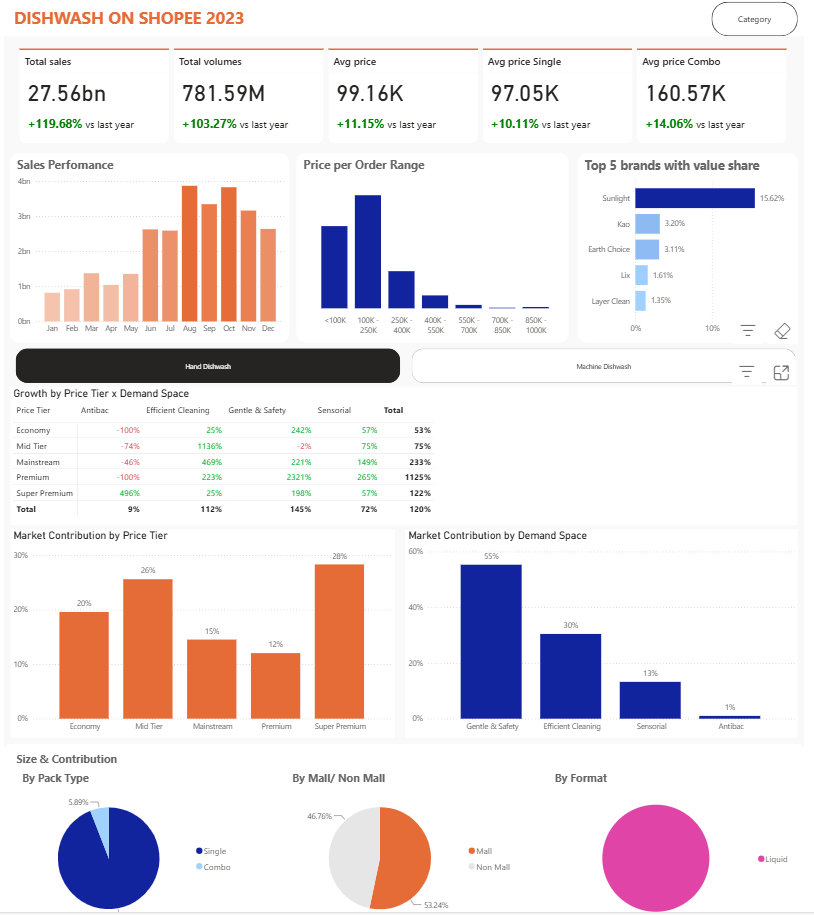

What the dashboard file says about the page in this screenshot:
{"tool":"powerbi","page":{"name":"Market Overview","canvas":[1280,1500],"ordinal":0},"visuals":[{"type":"shape","box":[0,1195,1280,305],"z":0},{"type":"shape","box":[0,0,1280,61.4],"z":1000},{"type":"pieChart","title":"By Mall/ Non Mall","fields":{"Y":["Sum(full data.NMV)"],"Category":["full data.MALL/ NON MALL"]},"box":[456.7,1236.7,368.3,263.3],"z":2000},{"type":"pieChart","title":"By Format","fields":{"Y":["Sum(full data.NMV)"],"Category":["full data.FORMAT"]},"box":[876.7,1236.7,393.3,263.3],"z":3000},{"type":"clusteredColumnChart","title":"Market Contribution by Demand Space","fields":{"Category":["full data.DW Demand Space"],"Y":["_Measure.Total sales"]},"box":[641.7,850,628.3,333.3],"z":4000},{"type":"clusteredBarChart","title":"Top 5 brands with value share","fields":{"Category":["full data.BRAND"],"Y":["_Measure.Brand val share"]},"box":[918.3,248.3,351.7,303.3],"z":5000},{"type":"clusteredColumnChart","title":"Sales Perfomance","fields":{"Category":["Calendar.Month name"],"Y":["_Measure.Value sale"]},"box":[10,248.3,446.7,303.3],"z":6000},{"type":"pieChart","title":"By Pack Type","fields":{"Y":["Sum(full data.NMV)"],"Category":["full data.PACK TYPE"]},"box":[23.3,1236.7,353.3,263.3],"z":7000},{"type":"advancedSlicerVisual","fields":{"Values":["full data.SUB-CAT"]},"box":[13.3,555,1258.3,65],"z":8000},{"type":"clusteredColumnChart","title":"Price per Order Range","fields":{"Category":["Dim_PPL_Range.PPL Range"],"Y":["_Measure.Price per order"]},"box":[468.3,248.3,435,303.3],"z":9000},{"type":"clusteredColumnChart","title":"Market Contribution by Price Tier","fields":{"Category":["Dim_PriceTier.Price Tier"],"Y":["_Measure.Value sale"]},"box":[10,850,615,333.3],"z":10000},{"type":"cardVisual","fields":{"Rows":["Test.Title"],"Data":["_Measure.Table value"]},"box":[0,75,1280,161.7],"z":11000},{"type":"pageNavigator","box":[1131.7,6.7,138.3,55],"z":12000},{"type":"pivotTable","title":"Growth by Price Tier x Demand Space","fields":{"Rows":["Dim_PriceTier.Price Tier"],"Values":["_Measure.Value growth %"],"Columns":["full data.DW Demand Space"]},"box":[10,621.7,1260,221.7],"z":13000}]}

Visuals, with their boxes on the page's 1280x1500 design canvas (x1, y1, x2, y2). These are canvas units, not pixel positions in the 814x915 screenshot, which may show the page scaled, cropped or inside an application window:
shape: box=[0, 1195, 1280, 1500]
shape: box=[0, 0, 1280, 61]
"By Mall/ Non Mall" pieChart: box=[457, 1237, 825, 1500]
"By Format" pieChart: box=[877, 1237, 1270, 1500]
"Market Contribution by Demand Space" clusteredColumnChart: box=[642, 850, 1270, 1183]
"Top 5 brands with value share" clusteredBarChart: box=[918, 248, 1270, 552]
"Sales Perfomance" clusteredColumnChart: box=[10, 248, 457, 552]
"By Pack Type" pieChart: box=[23, 1237, 377, 1500]
advancedSlicerVisual - full data.SUB-CAT: box=[13, 555, 1272, 620]
"Price per Order Range" clusteredColumnChart: box=[468, 248, 903, 552]
"Market Contribution by Price Tier" clusteredColumnChart: box=[10, 850, 625, 1183]
cardVisual - Test.Title x _Measure.Table value: box=[0, 75, 1280, 237]
pageNavigator: box=[1132, 7, 1270, 62]
"Growth by Price Tier x Demand Space" pivotTable: box=[10, 622, 1270, 843]
